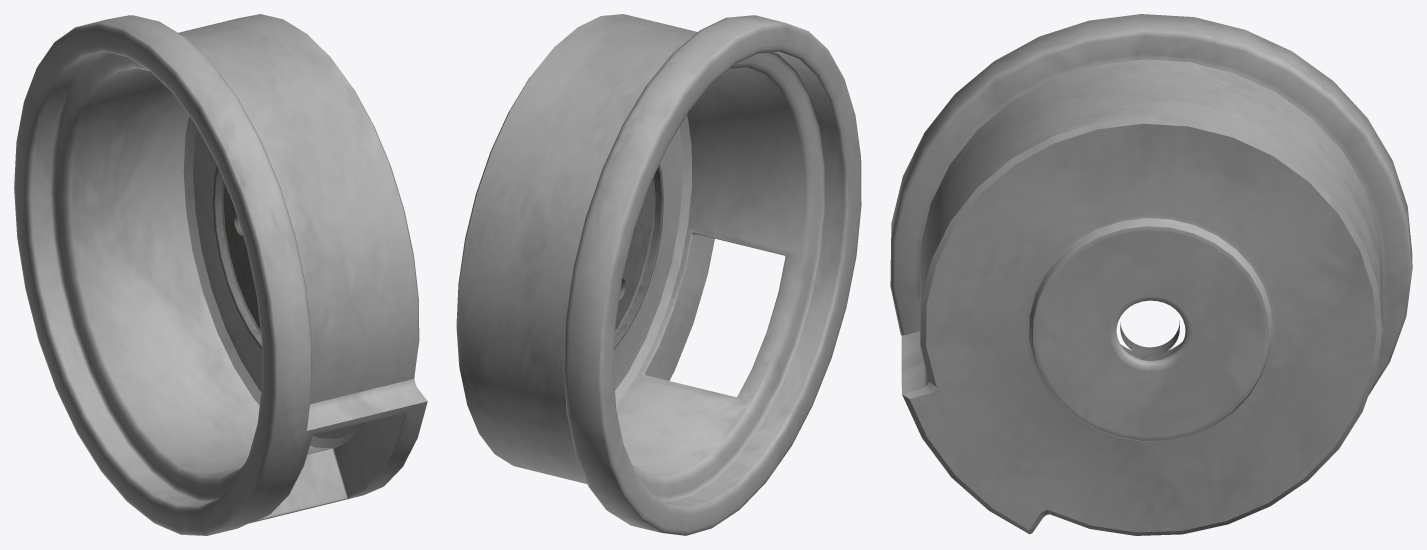
Rendered from Outer Endbell.glb.
3 renders of one model, left to right at view 1: azimuth 30°, elevation 25°; view 2: azimuth 150°, elevation 25°; view 3: azimuth 270°, elevation 25°, orthographic.
Visible parts, largest first — view 1: Endbell002, Circle012; view 2: Endbell002, Circle012; view 3: Endbell002, Circle012.
Part boxes in pixels (x1,y1,x2,y2): Endbell002: [14, 14, 427, 535]; Circle012: [213, 165, 261, 349]; Endbell002: [456, 14, 861, 535]; Circle012: [614, 164, 663, 349]; Endbell002: [890, 14, 1412, 535]; Circle012: [1120, 320, 1182, 360].
Size of the model in its own units: 0.2269 by 0.5926 by 0.5923.
Materials: 2 (2 with a texture image).
